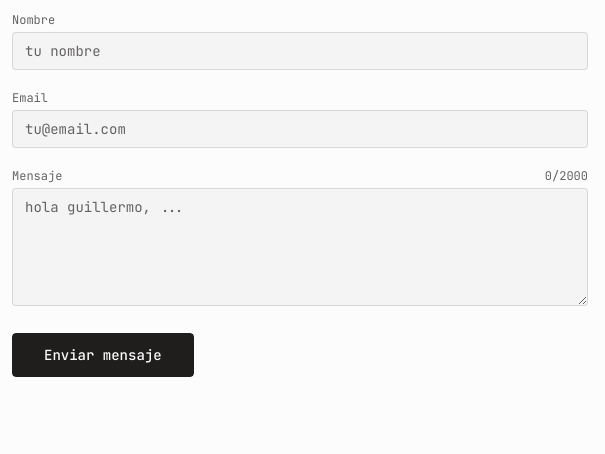
Test case: ContactForm validación › muestra pistas de validación y no envía datos inválidos
Click the button "Enviar mensaje".
click(103, 355)  # box [12,333,194,377]
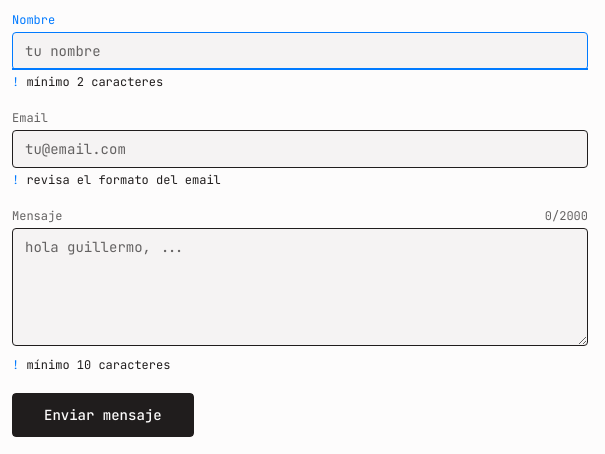
Now the text "mínimo 2 caracteres" is shown, box [26,74,163,90]
Now the text "revisa el formato del email" is shown, box [26,172,221,188]
Now the text "mínimo 10 caracteres" is shown, box [26,357,170,373]
